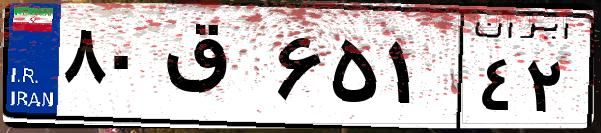0: (110, 28, 158, 98)
1: (385, 28, 445, 110)
2: (525, 38, 570, 115)
4: (475, 38, 525, 113)
5: (330, 28, 385, 110)
6: (270, 28, 330, 110)
8: (57, 26, 110, 100)
ق: (158, 20, 270, 120)
